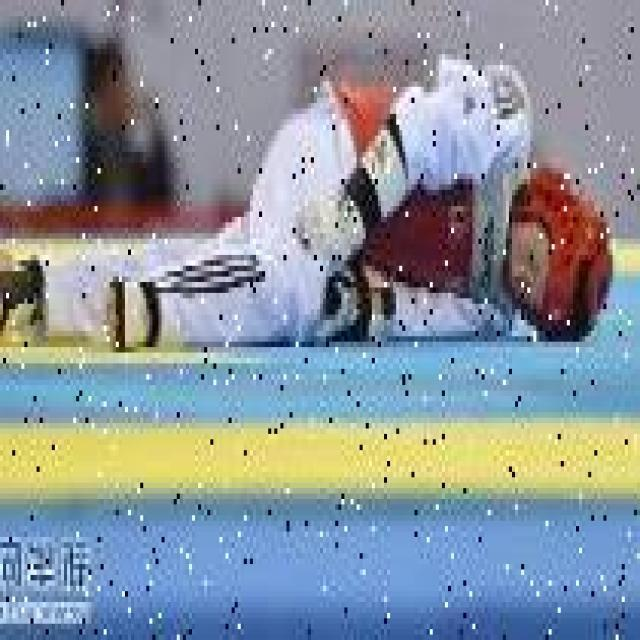fall: (3, 44, 619, 364)
